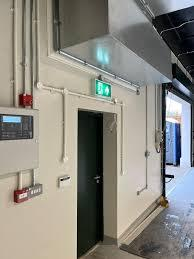exit: (79, 110, 117, 258)
lit_exit_sign: (96, 79, 112, 96)
